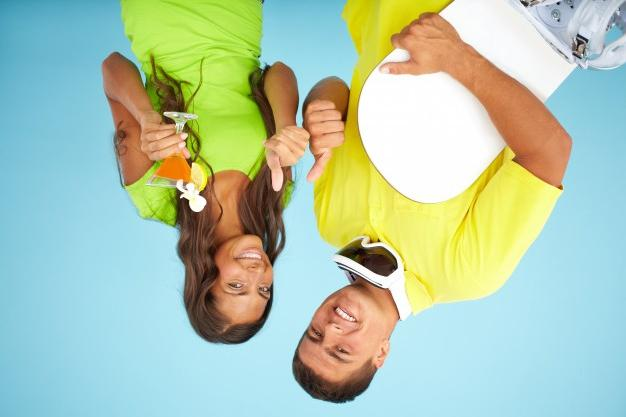thumbsdown: (305, 100, 344, 182), (262, 126, 310, 192)
